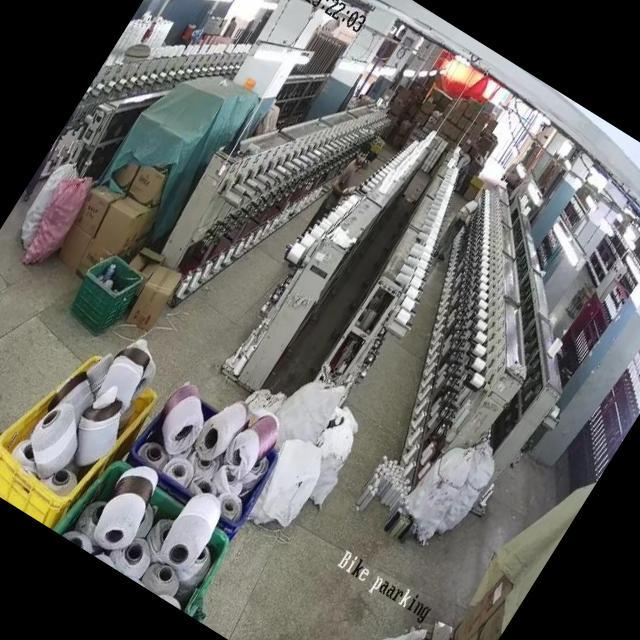person: (318, 142, 374, 218), (433, 194, 483, 260)
